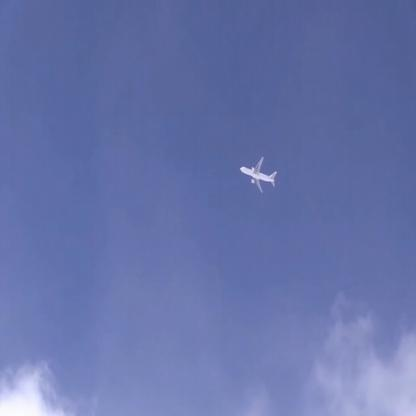CIV_Plane: (239, 158, 278, 194)
